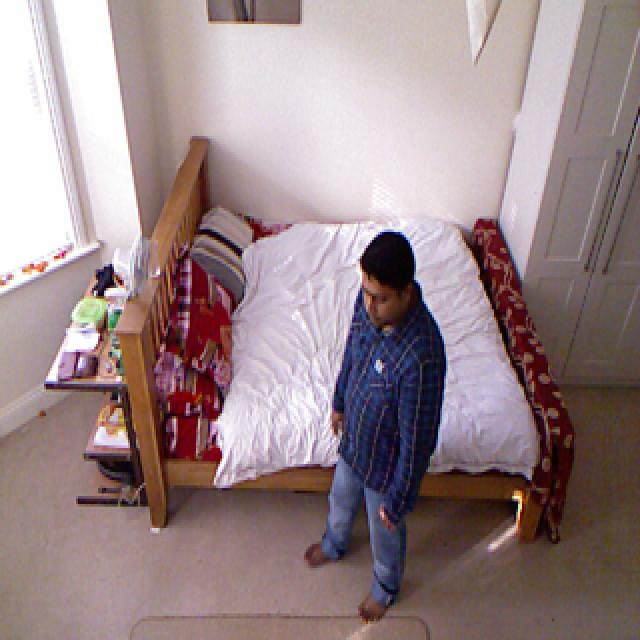standing: (313, 224, 449, 618)
